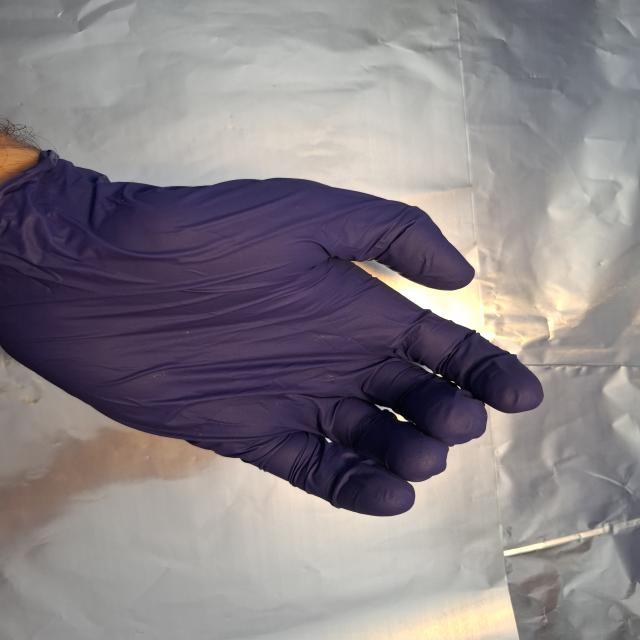glove_on: (0, 150, 548, 519)
